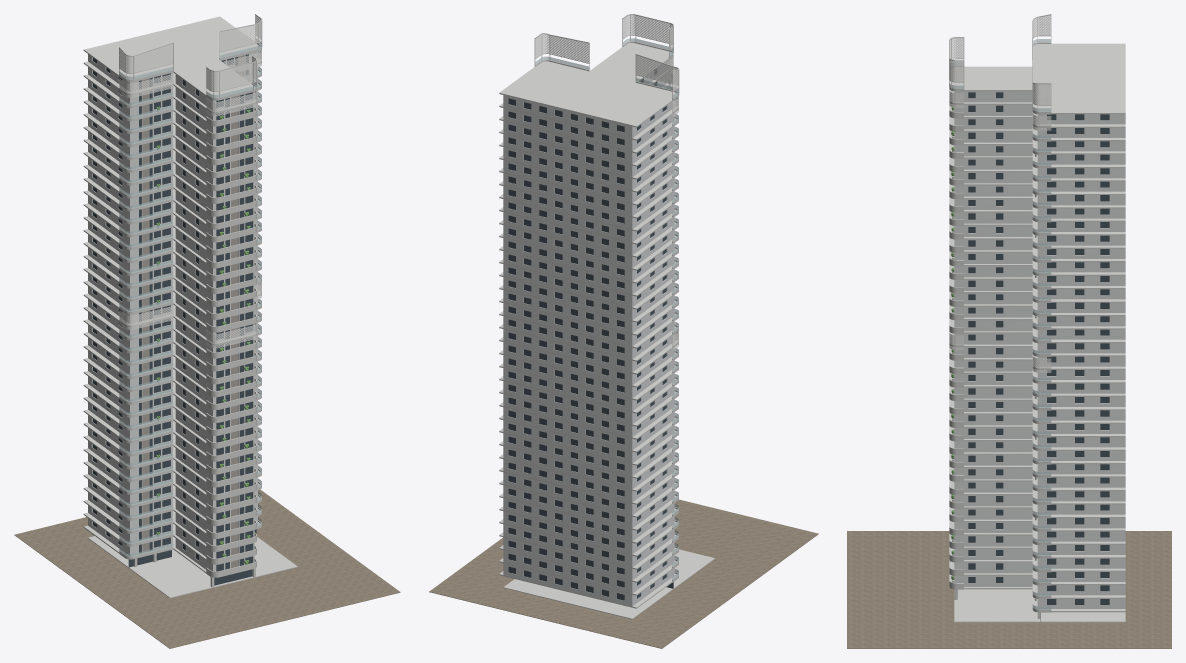
Rendered from bignonia-tower-b.glb.
The picture shows the model from 3 angles, left to right: view 1: azimuth 30°, elevation 25°; view 2: azimuth 150°, elevation 25°; view 3: azimuth 270°, elevation 25°; orthographic projection. The views are drawn at different scales.
Visible parts, largest first — view 1: Ground_Forecourt, Tower_Bignonia_B_Roof_white, Tower_Bignonia_B_Lobby_white, Tower_Bignonia_B_Roof_screen, Tower_Bignonia_B_Floor_37_screen, Tower_Bignonia_B_Floor_19_screen, Tower_Bignonia_B_Floor_37_facade, Tower_Bignonia_B_Floor_36_white, Tower_Bignonia_B_Floor_01_white, Tower_Bignonia_B_Floor_27_white, Tower_Bignonia_B_Floor_10_white, Tower_Bignonia_B_Floor_02_white (+70 smaller); view 2: Ground_Forecourt, Tower_Bignonia_B_Roof_white, Tower_Bignonia_B_Roof_screen, Tower_Bignonia_B_Lobby_white, Tower_Bignonia_B_Floor_37_facade, Tower_Bignonia_B_Floor_36_facade, Tower_Bignonia_B_Floor_35_facade, Tower_Bignonia_B_Floor_16_facade, Tower_Bignonia_B_Floor_02_facade, Tower_Bignonia_B_Floor_07_facade, Tower_Bignonia_B_Floor_15_facade, Tower_Bignonia_B_Floor_01_facade (+32 smaller); view 3: Ground_Forecourt, Tower_Bignonia_B_Roof_white, Tower_Bignonia_B_Lobby_white, Tower_Bignonia_B_Floor_37_facade, Tower_Bignonia_B_Floor_15_facade, Tower_Bignonia_B_Floor_17_facade, Tower_Bignonia_B_Floor_04_facade, Tower_Bignonia_B_Floor_28_facade, Tower_Bignonia_B_Floor_06_facade, Tower_Bignonia_B_Floor_30_facade, Tower_Bignonia_B_Floor_19_facade, Tower_Bignonia_B_Floor_09_facade (+68 smaller).
Boxes of the visible parts, left/top/right/bottom form: Ground_Forecourt: left=14, top=489, right=400, bottom=648; Tower_Bignonia_B_Roof_white: left=83, top=14, right=262, bottom=100; Tower_Bignonia_B_Lobby_white: left=88, top=536, right=297, bottom=598; Tower_Bignonia_B_Roof_screen: left=119, top=15, right=261, bottom=91; Tower_Bignonia_B_Floor_37_screen: left=119, top=50, right=261, bottom=116; Tower_Bignonia_B_Floor_19_screen: left=119, top=282, right=261, bottom=348; Tower_Bignonia_B_Floor_37_facade: left=88, top=52, right=257, bottom=110; Tower_Bignonia_B_Floor_36_white: left=83, top=69, right=261, bottom=126; Tower_Bignonia_B_Floor_01_white: left=83, top=520, right=261, bottom=577; Tower_Bignonia_B_Floor_27_white: left=83, top=185, right=261, bottom=242; Tower_Bignonia_B_Floor_10_white: left=83, top=404, right=261, bottom=461; Tower_Bignonia_B_Floor_02_white: left=83, top=507, right=261, bottom=564; Ground_Forecourt: left=429, top=499, right=818, bottom=648; Tower_Bignonia_B_Roof_white: left=499, top=14, right=679, bottom=127; Tower_Bignonia_B_Roof_screen: left=535, top=15, right=678, bottom=91; Tower_Bignonia_B_Lobby_white: left=503, top=549, right=714, bottom=619; Tower_Bignonia_B_Floor_37_facade: left=503, top=58, right=674, bottom=138; Tower_Bignonia_B_Floor_36_facade: left=503, top=73, right=674, bottom=151; Tower_Bignonia_B_Floor_35_facade: left=503, top=84, right=674, bottom=164; Tower_Bignonia_B_Floor_16_facade: left=503, top=368, right=674, bottom=411; Tower_Bignonia_B_Floor_02_facade: left=503, top=550, right=674, bottom=593; Tower_Bignonia_B_Floor_07_facade: left=503, top=485, right=674, bottom=528; Tower_Bignonia_B_Floor_15_facade: left=503, top=381, right=674, bottom=424; Tower_Bignonia_B_Floor_01_facade: left=503, top=563, right=674, bottom=606; Ground_Forecourt: left=847, top=531, right=1171, bottom=648; Tower_Bignonia_B_Roof_white: left=949, top=14, right=1125, bottom=114; Tower_Bignonia_B_Lobby_white: left=954, top=589, right=1125, bottom=622; Tower_Bignonia_B_Floor_37_facade: left=954, top=91, right=1125, bottom=124; Tower_Bignonia_B_Floor_15_facade: left=954, top=387, right=1125, bottom=420; Tower_Bignonia_B_Floor_17_facade: left=954, top=360, right=1125, bottom=393; Tower_Bignonia_B_Floor_04_facade: left=954, top=535, right=1125, bottom=568; Tower_Bignonia_B_Floor_28_facade: left=954, top=212, right=1125, bottom=245; Tower_Bignonia_B_Floor_06_facade: left=954, top=508, right=1125, bottom=541; Tower_Bignonia_B_Floor_30_facade: left=954, top=185, right=1125, bottom=218; Tower_Bignonia_B_Floor_19_facade: left=954, top=333, right=1125, bottom=366; Tower_Bignonia_B_Floor_09_facade: left=954, top=468, right=1125, bottom=501.
Size of what is drawn, in the model's own units: 60 by 129 by 70.
9 materials, 2 textured.
